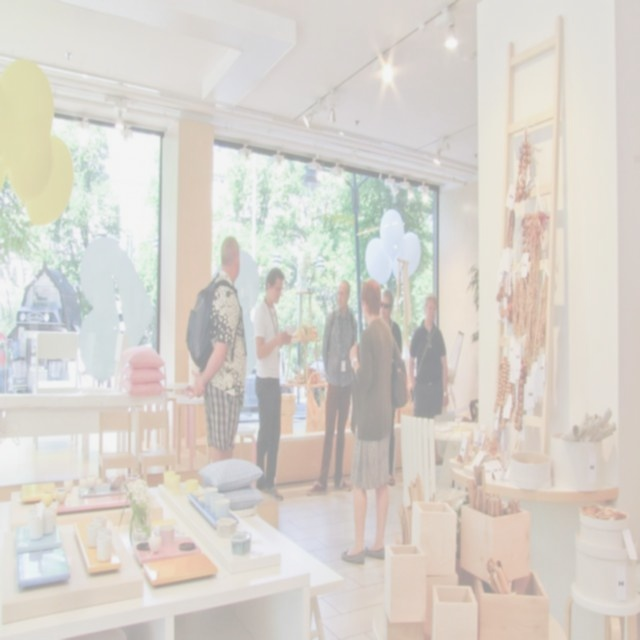pessoa: (340, 276, 412, 568), (183, 236, 248, 468), (304, 280, 360, 498), (253, 266, 293, 504), (408, 292, 449, 464), (379, 288, 402, 486), (0, 341, 7, 394), (5, 340, 12, 368)
